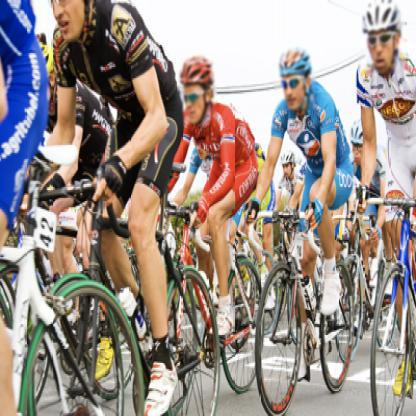Helmet: (356, 1, 406, 75), (176, 53, 216, 127), (275, 50, 313, 111), (348, 117, 380, 167), (282, 151, 296, 181)
